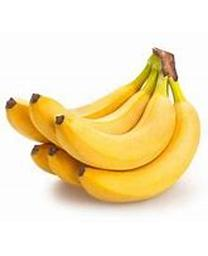banana: (5, 46, 202, 202)
